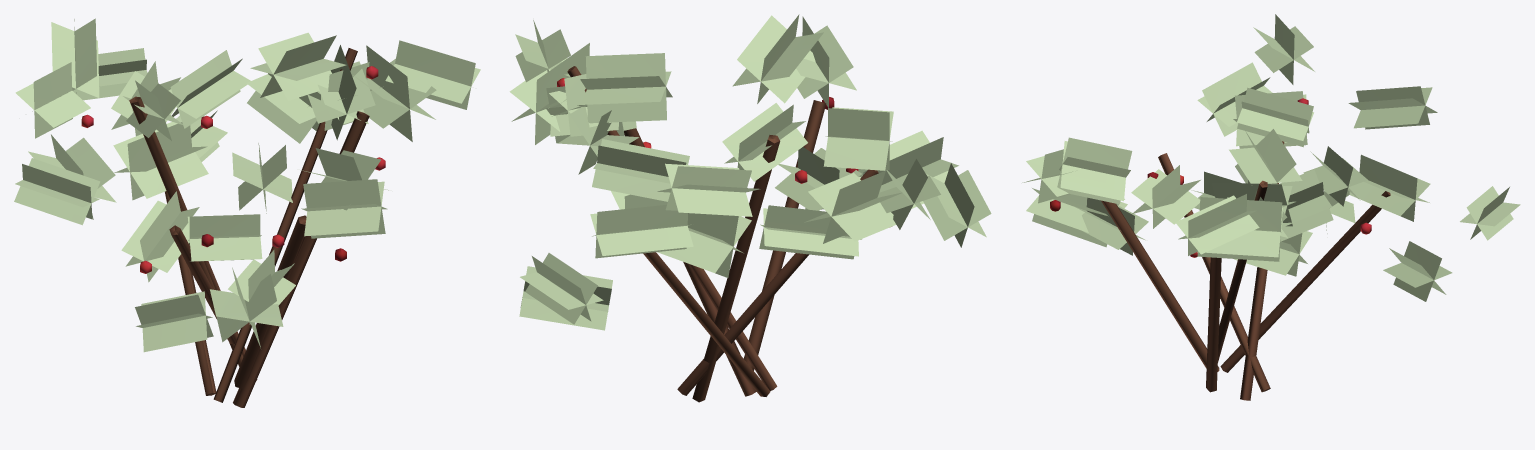
File: small-lod1.glb
The picture shows the model from 3 angles, left to right: view 1: azimuth 30°, elevation 25°; view 2: azimuth 150°, elevation 25°; view 3: azimuth 270°, elevation 25°; orthographic projection. The views are drawn at different scales.
Visible parts, largest first — view 1: redberry-leaf-sprays, redberry-buried-stems-ground-blend-and-fruit; view 2: redberry-leaf-sprays, redberry-buried-stems-ground-blend-and-fruit; view 3: redberry-leaf-sprays, redberry-buried-stems-ground-blend-and-fruit.
Boxes of the visible parts, x1,y1,x2,y2 form: redberry-leaf-sprays: [14, 18, 480, 352]; redberry-buried-stems-ground-blend-and-fruit: [81, 48, 385, 407]; redberry-leaf-sprays: [509, 14, 991, 330]; redberry-buried-stems-ground-blend-and-fruit: [557, 66, 878, 402]; redberry-leaf-sprays: [1022, 14, 1520, 301]; redberry-buried-stems-ground-blend-and-fruit: [1050, 98, 1390, 400].
Bounding box in the file's own units: 1.45 × 1.08 × 1.62.
